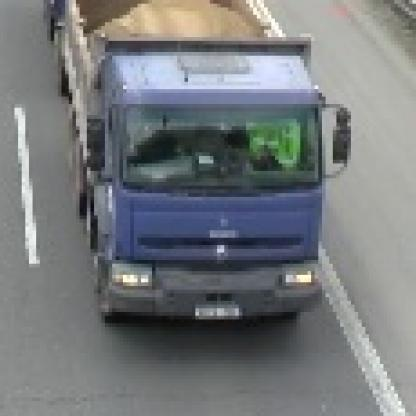truck: (44, 1, 348, 335)
